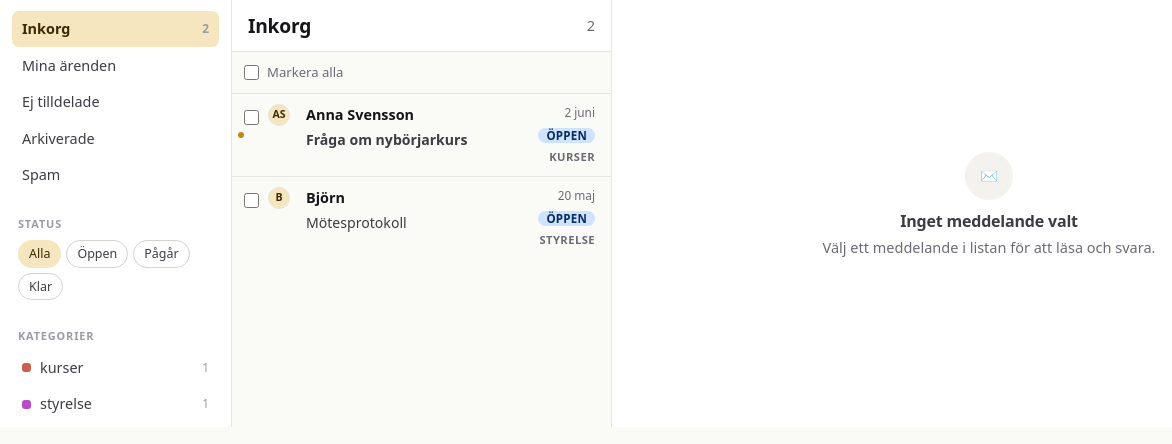
InboxView (integration with store + fetch shim) › filtering by category narrows the list
Click the button with class "side-link" showing "styrelse 1". click: point(116, 404)
box: [12, 386, 219, 422]
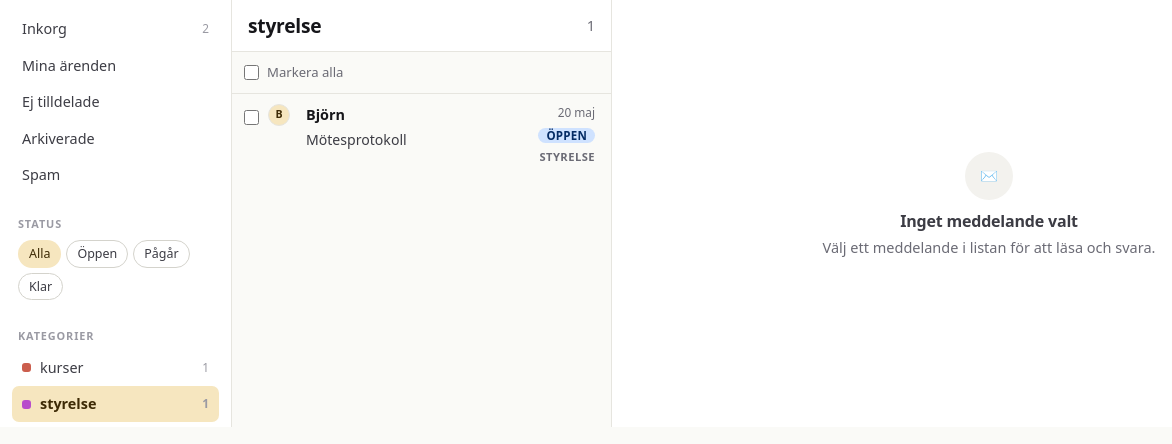
Expected: the button with class "list-item" shows "Mötesprotokoll", [232, 94, 611, 176]
Expected: the number of buttons with class "list-item" is 1, [232, 94, 611, 176]
